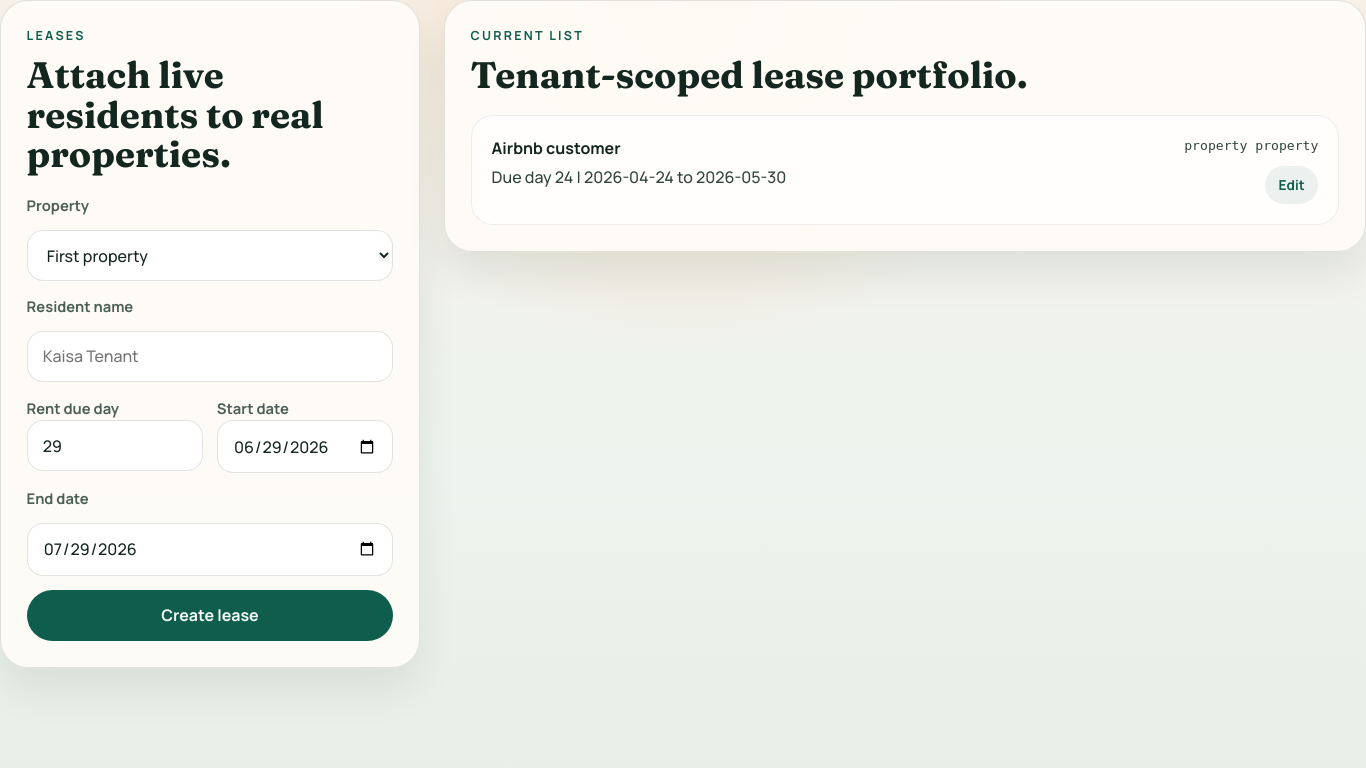
it: LeasesPage › cancels lease edit mode without submitting
Step 1. Click the button with aria-label "Edit Airbnb customer" → (1292, 185), box [1265,166,1318,204]
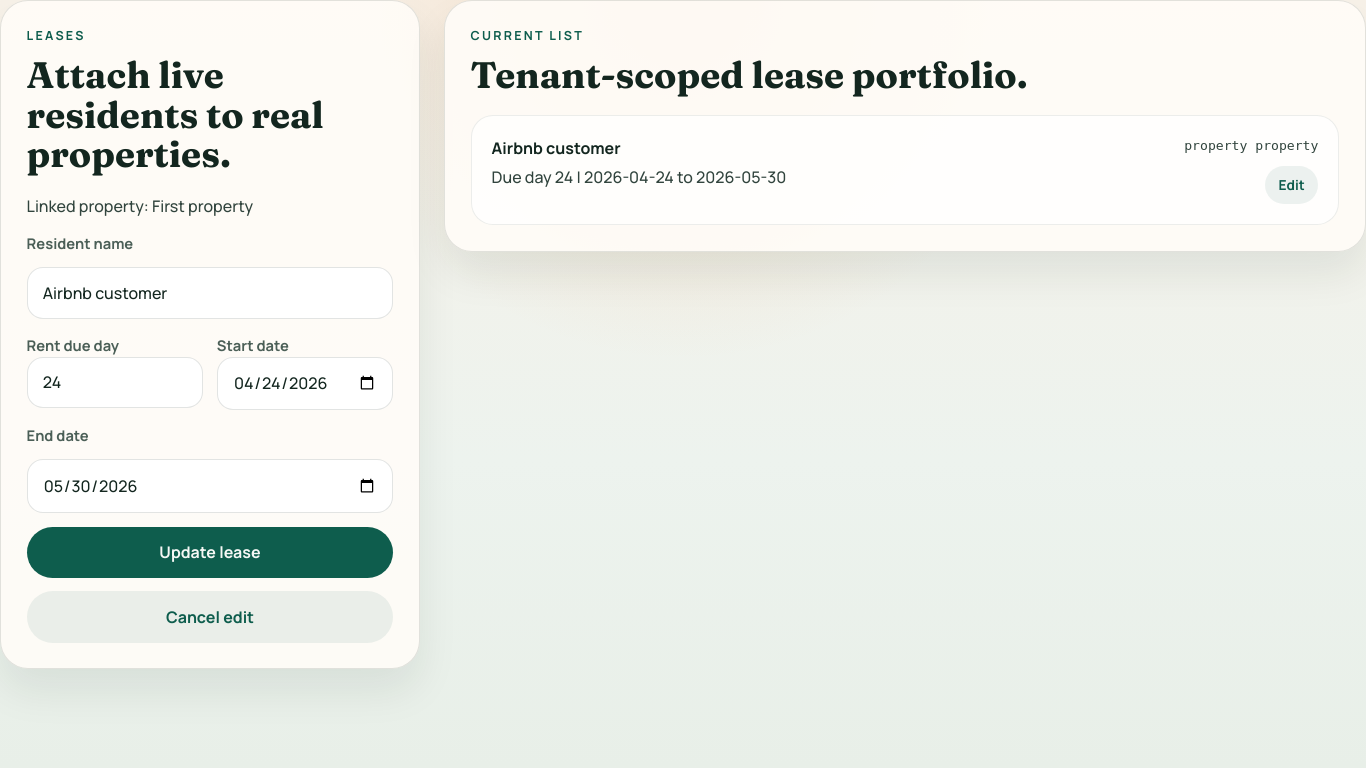
Step 2. Click the button "Cancel edit" → (210, 617), box [27,591,393,643]
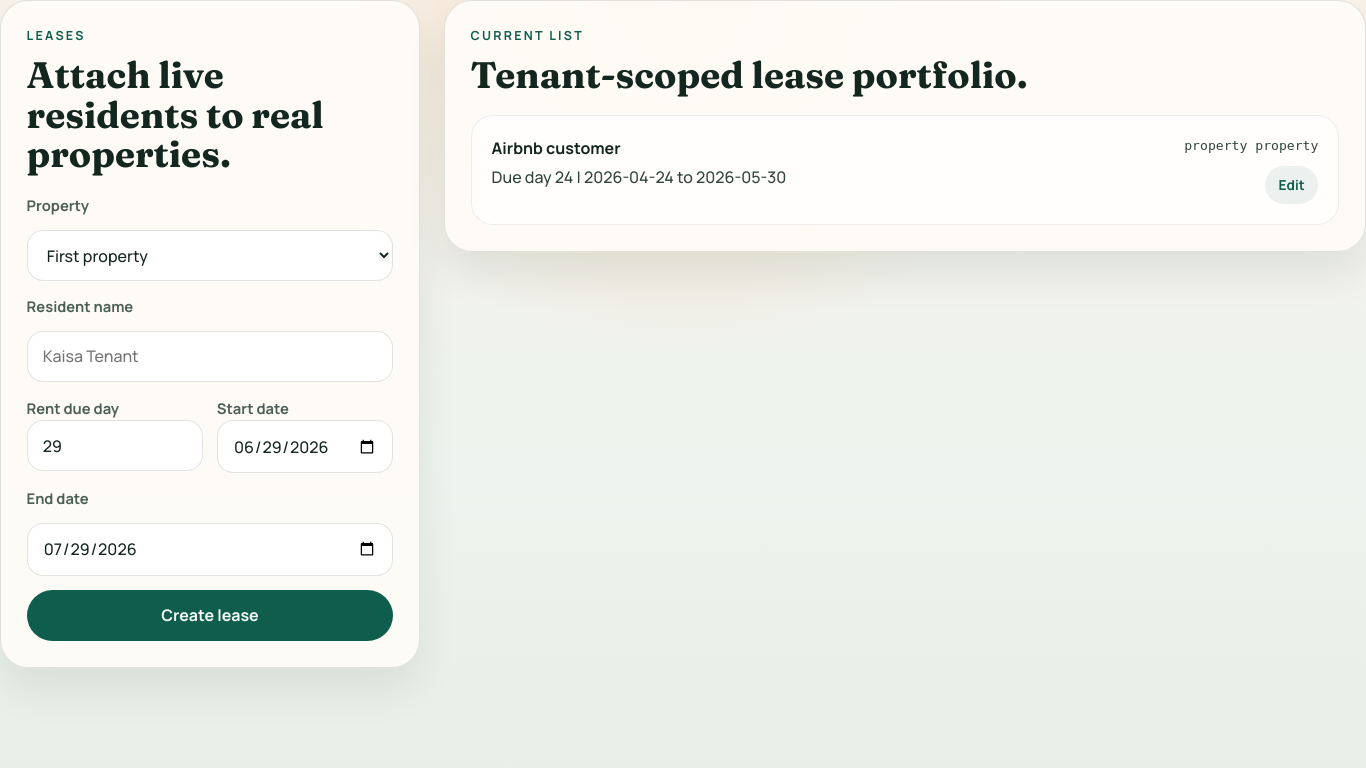
Result: the button "Create lease" is shown at [27,590,393,641]
Result: the text "Linked property: First property" is gone
